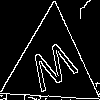W: (26, 39, 83, 100)
